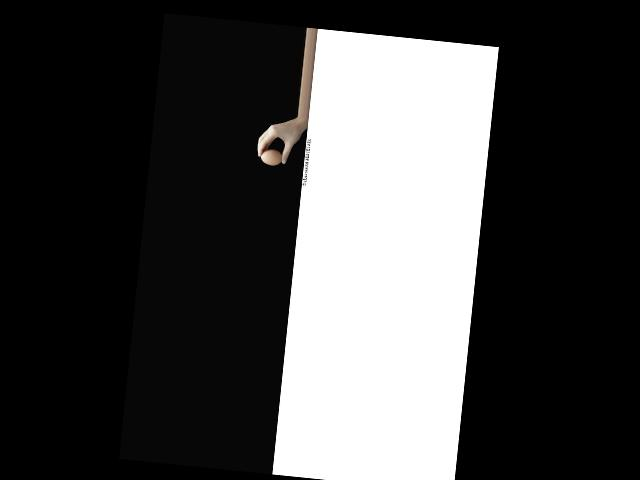egg: (259, 148, 282, 166)
